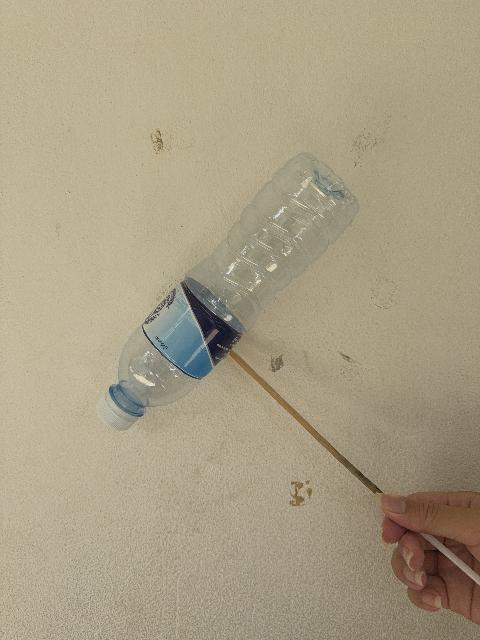bottle: (97, 154, 358, 430)
